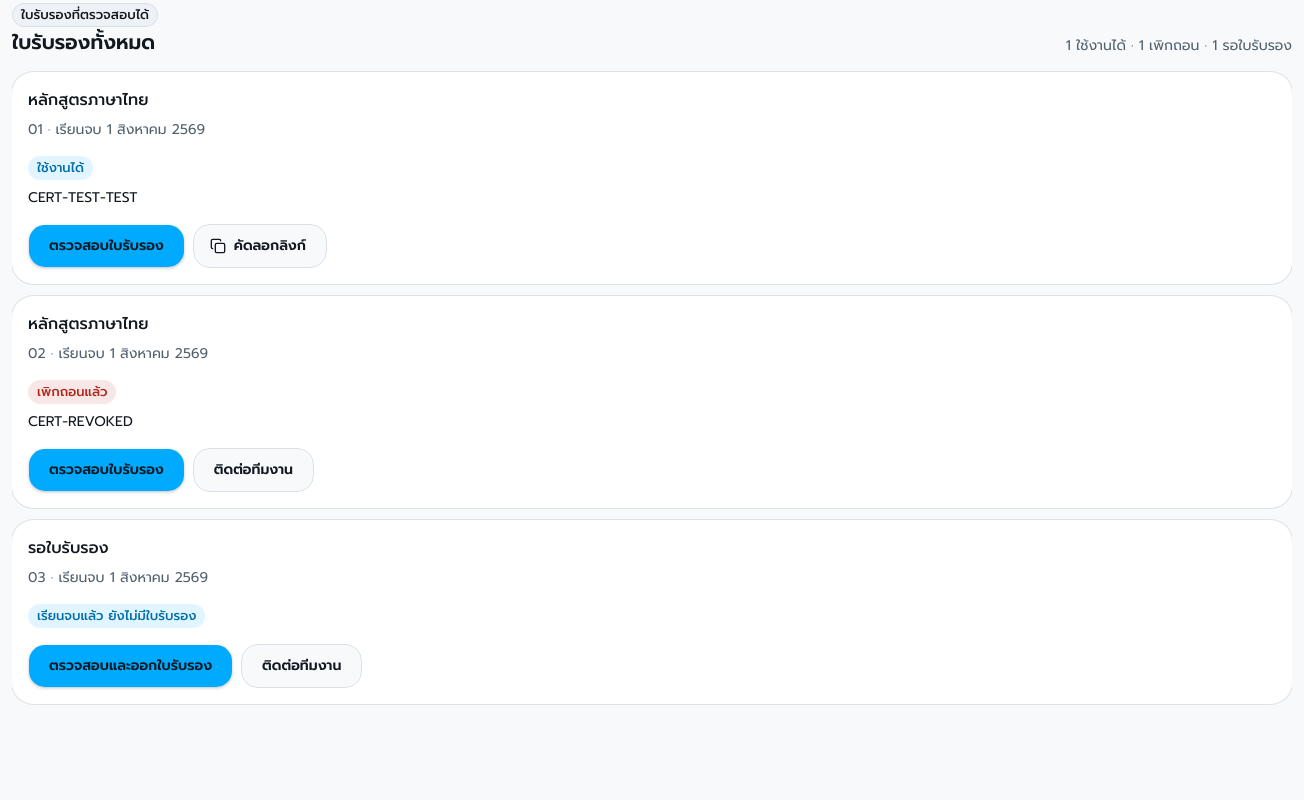
Test: certificate user journey › separates all collection states and submits one explicit owner repair
Expected: the text "เพิกถอนแล้ว" is shown, [28,380,116,404]
Expected: the text "เรียนจบแล้ว ยังไม่มีใบรับรอง" is shown, [28,604,205,628]
Click the button "ตรวจสอบและออกใบรับรอง": {"x": 131, "y": 666} [28,644,233,688]
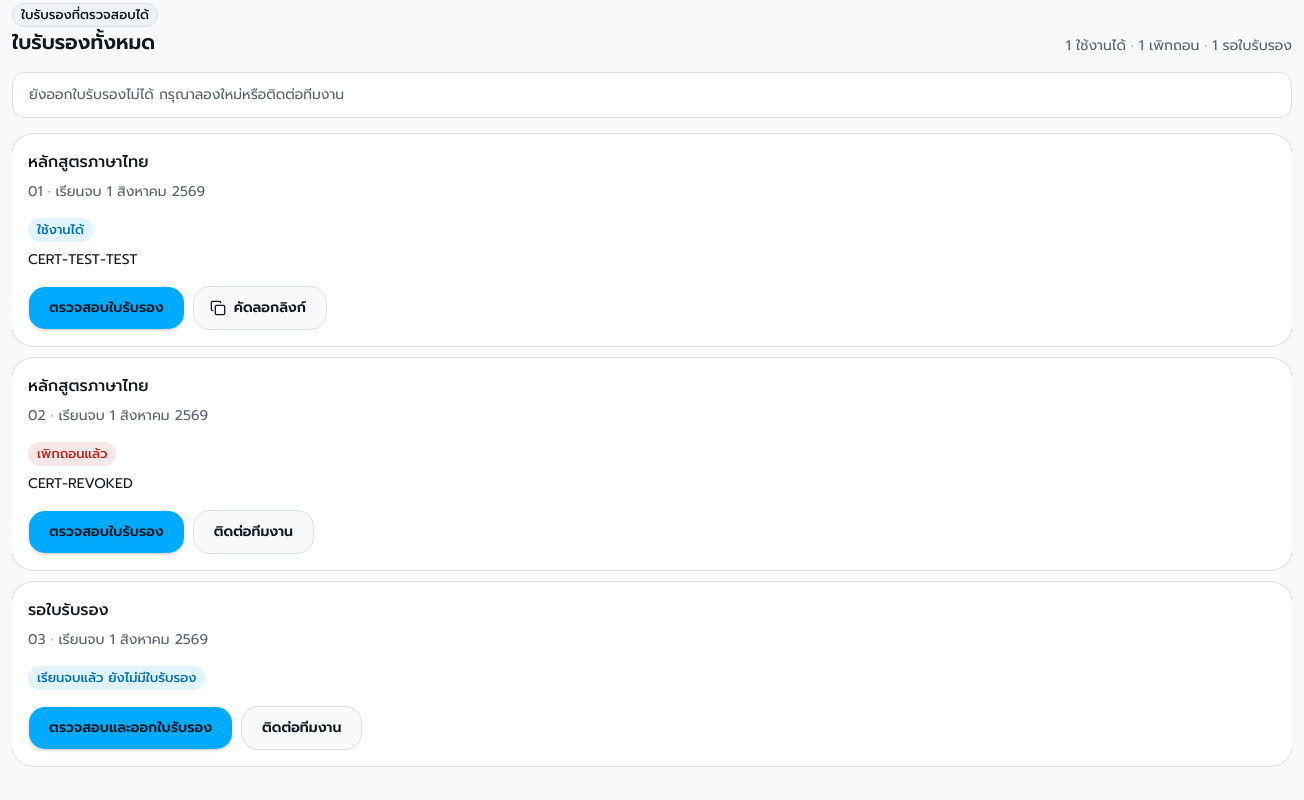
Now the text "ยังออกใบรับรองไม่ได้ กรุณาลองใหม่หรือติดต่อทีมงาน" is shown, box [29,84,344,105]
